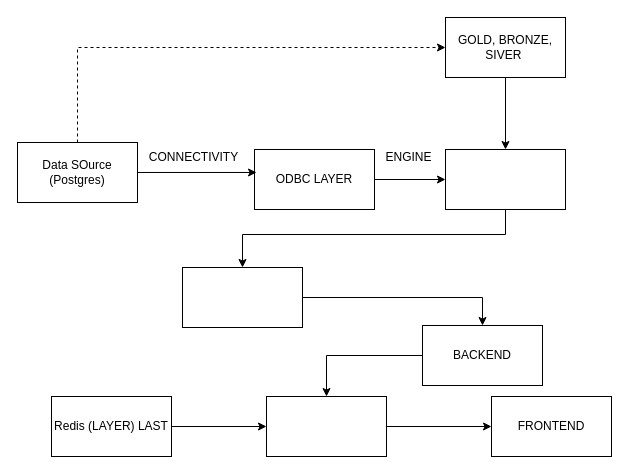
This 629x474 diagram has some shape labels left out. The centre of each missing label's shape, as x and y in pixels:
APPLICATION LAYER (PYTHON): (x=326, y=426)
KAFKA (IF REDIS NOT USED): (x=242, y=297)
SPARK: (x=505, y=179)
